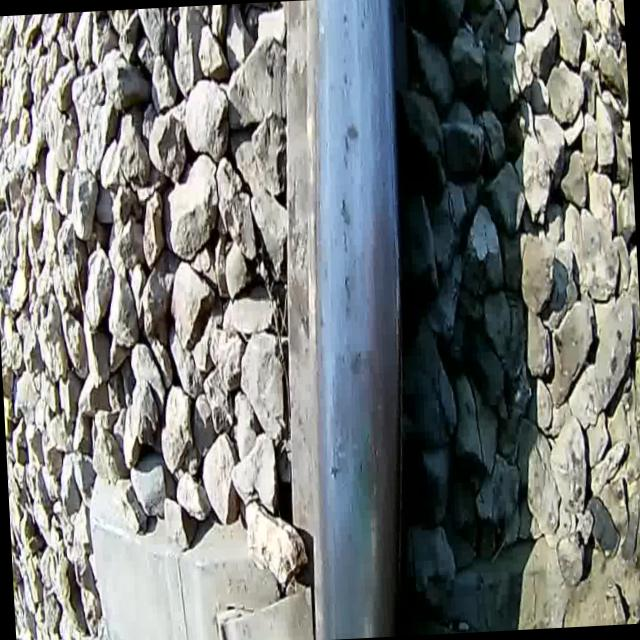Squats: (354, 182, 426, 638), (315, 335, 396, 532), (327, 101, 372, 329)
